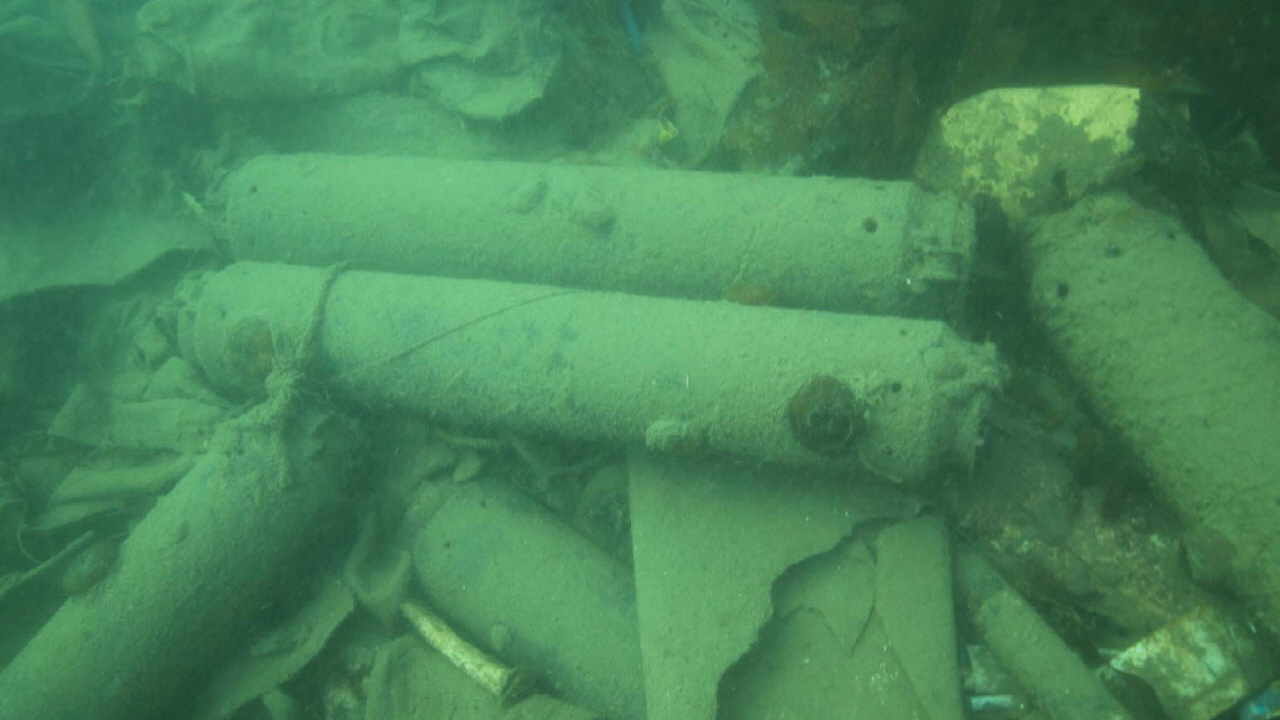bundle of ropes: (222, 257, 363, 486)
eel fish trap: (170, 260, 996, 484), (221, 149, 972, 364), (0, 394, 382, 720), (1026, 189, 1280, 639)
